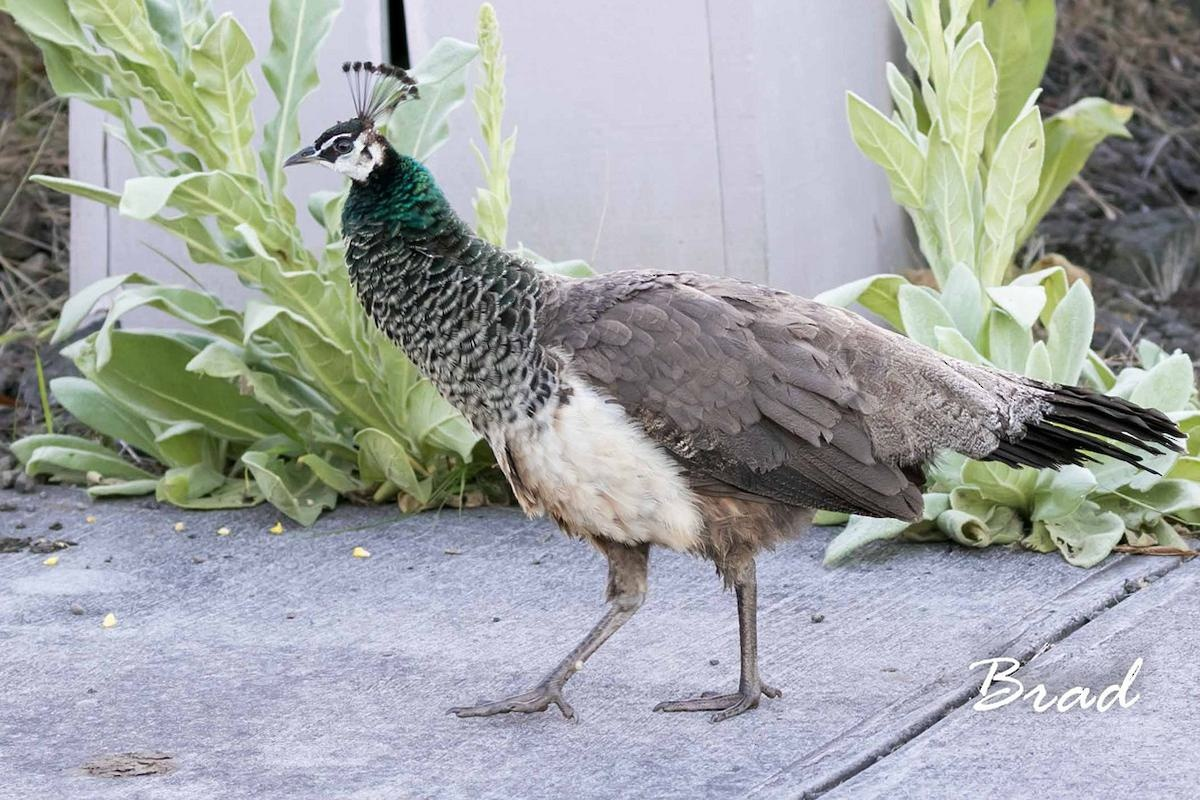peacock: (285, 22, 1106, 741)
